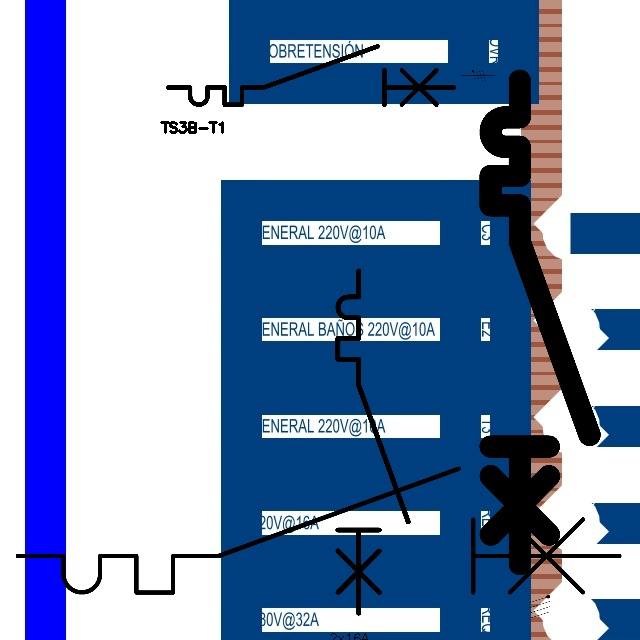interruptor_termomagnetico: (2, 453, 634, 608), (478, 68, 602, 576), (329, 262, 417, 622), (161, 39, 461, 112)
